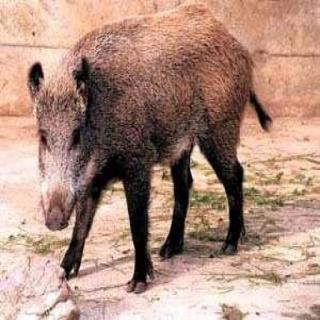Pig: (13, 1, 272, 289)
